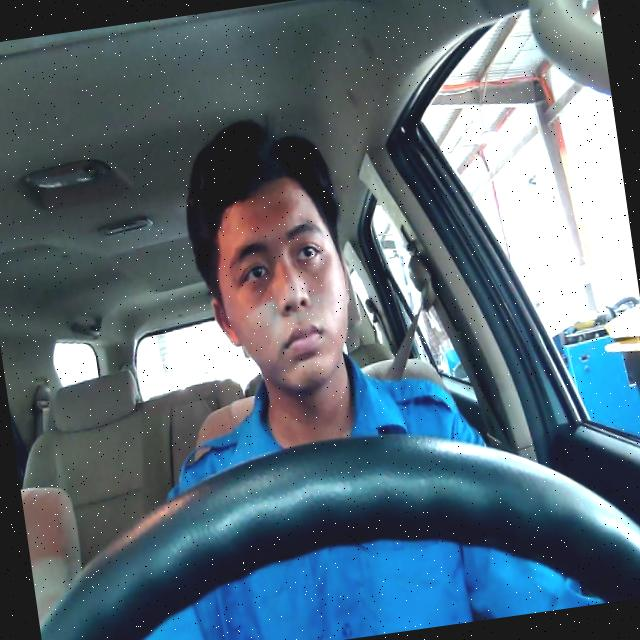focused: (194, 168, 362, 402)
